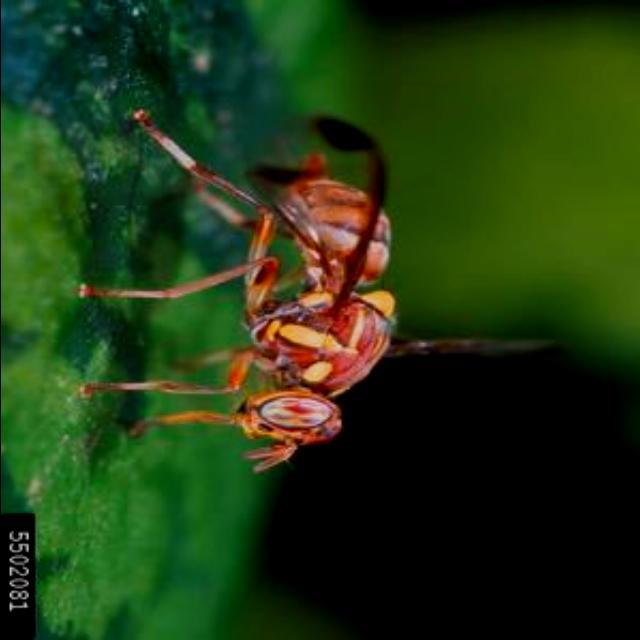melon fly: (80, 87, 462, 485)
